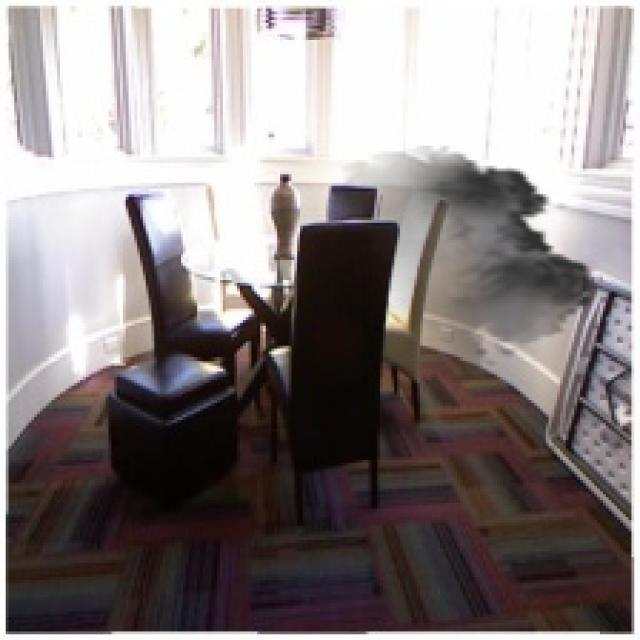Smoke: (323, 146, 606, 392)
